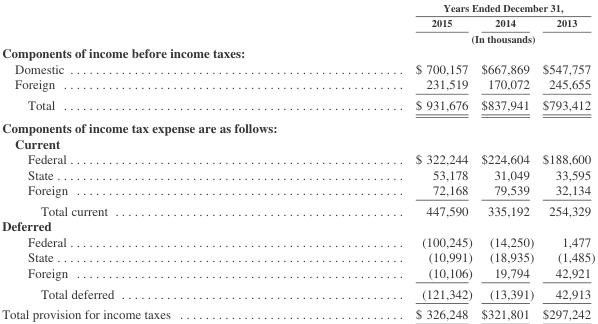table: (1, 1, 594, 321)
table column: (1, 1, 292, 321), (292, 1, 476, 321), (476, 1, 537, 321), (537, 1, 594, 321)
table column header: (1, 1, 594, 44)
table projected row header: (1, 116, 594, 135), (1, 44, 594, 60), (1, 135, 594, 151), (1, 218, 594, 233)
table row: (1, 94, 594, 116), (1, 282, 594, 303), (1, 116, 594, 135), (1, 76, 594, 94), (1, 182, 594, 200), (1, 200, 594, 218), (1, 264, 594, 282), (1, 303, 594, 321), (1, 14, 594, 30), (1, 44, 594, 60), (1, 60, 594, 76), (1, 135, 594, 151), (1, 166, 594, 182), (1, 233, 594, 249), (1, 151, 594, 166), (1, 218, 594, 233), (1, 249, 594, 264), (1, 30, 594, 44), (1, 1, 594, 14)
table spanning cell: (292, 30, 594, 44), (292, 1, 594, 14)
